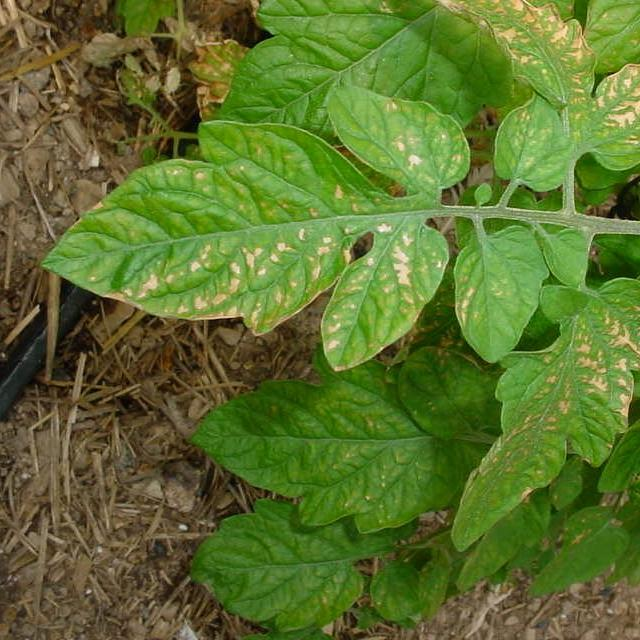Tomato leaf bacterial spot: (38, 107, 402, 358), (449, 238, 640, 554), (406, 0, 640, 198), (310, 208, 462, 389), (436, 216, 549, 364), (326, 89, 473, 198)
